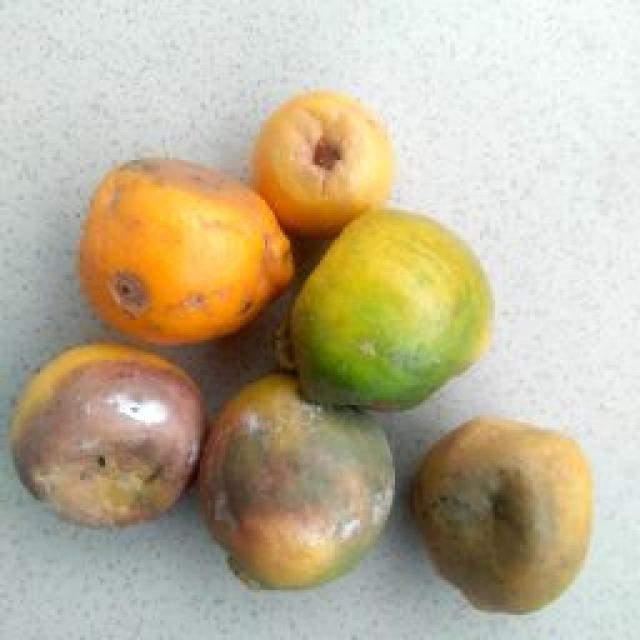Bad_Orange: (200, 374, 395, 588), (411, 418, 594, 612), (11, 344, 205, 526)
